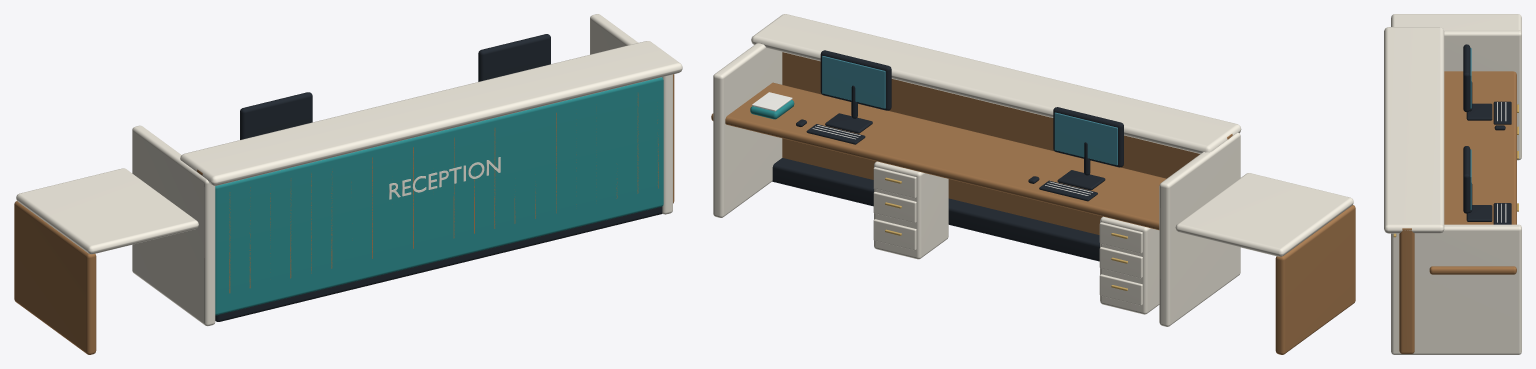
Rendered from ReceptionDesk_TwoWorkstations.fbx.
3 renders of one model, left to right at view 1: azimuth 30°, elevation 25°; view 2: azimuth 150°, elevation 25°; view 3: azimuth 270°, elevation 25°, orthographic. The views are drawn at different scales.
Visible parts, largest first — view 1: Teal reception front, Ivory transaction counter, Desk end panel, Accessible counter, Accessible counter end, Recessed dark plinth, Desk end panel.001, Monitor housing, Monitor housing.001, Reception sign; view 2: Staff worktop, Ivory transaction counter, Oak front surround, Desk end panel, Accessible counter, Accessible counter end, Desk end panel.001, Recessed dark plinth, Drawer pedestal.001, Drawer pedestal, Monitor display, Monitor display.001 (+12 smaller); view 3: Desk end panel.001, Ivory transaction counter, Staff worktop, Desk end panel, Oak front surround, Accessible counter, Monitor housing, Monitor housing.001, Keyboard, Monitor foot, Monitor foot.001, Keyboard.001.
Part boxes in pixels (x1,y1,x2,y2): Teal reception front: (215, 77, 663, 315); Ivory transaction counter: (180, 41, 682, 185); Desk end panel: (132, 125, 215, 326); Accessible counter: (16, 168, 198, 254); Accessible counter end: (14, 201, 96, 354); Recessed dark plinth: (215, 206, 662, 321); Desk end panel.001: (590, 14, 672, 214); Monitor housing: (240, 92, 312, 139); Monitor housing.001: (478, 34, 550, 81); Reception sign: (389, 157, 500, 199); Staff worktop: (711, 82, 1166, 229); Ivory transaction counter: (751, 14, 1241, 153); Oak front surround: (782, 52, 1232, 234); Desk end panel: (1159, 132, 1240, 326); Accessible counter: (1175, 173, 1353, 256); Accessible counter end: (1275, 205, 1355, 354); Desk end panel.001: (713, 43, 782, 217); Recessed dark plinth: (772, 158, 1099, 261); Drawer pedestal.001: (874, 161, 948, 259); Drawer pedestal: (1100, 216, 1159, 314); Monitor display: (1054, 112, 1117, 165); Monitor display.001: (822, 56, 885, 108); Desk end panel.001: (1391, 224, 1521, 354); Ivory transaction counter: (1384, 27, 1444, 233); Staff worktop: (1429, 71, 1516, 274); Desk end panel: (1444, 30, 1521, 160); Oak front surround: (1399, 228, 1414, 353); Accessible counter: (1391, 14, 1521, 32); Monitor housing: (1463, 44, 1470, 112); Monitor housing.001: (1463, 146, 1470, 213); Keyboard: (1493, 101, 1511, 124); Monitor foot: (1466, 103, 1492, 120); Monitor foot.001: (1466, 205, 1492, 221); Keyboard.001: (1493, 203, 1511, 224).
Size of the model in its own units: 465 by 126 by 107.
